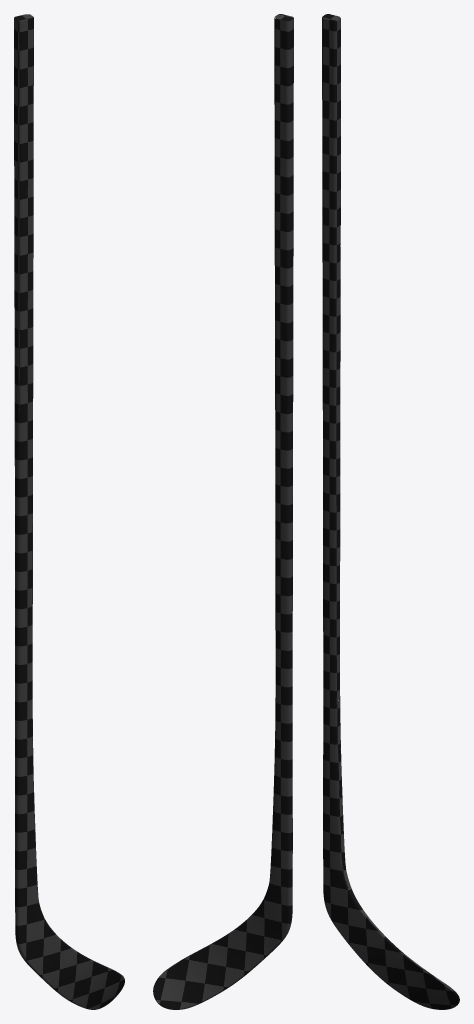
File: P28-SBO-JR.glb
3 renders of one model, left to right at view 1: azimuth 30°, elevation 25°; view 2: azimuth 150°, elevation 25°; view 3: azimuth 330°, elevation 25°, orthographic. The views are drawn at different scales.
Visible parts, largest first — view 1: geometry_0; view 2: geometry_0; view 3: geometry_0.
Part boxes in pixels (x1,y1,x2,y2): geometry_0: (14,14,124,1009); geometry_0: (153,14,293,1009); geometry_0: (322,14,459,1009).
Bounding box in the file's own units: 210 × 1650 × 66.46.
1 material, 1 textured.
